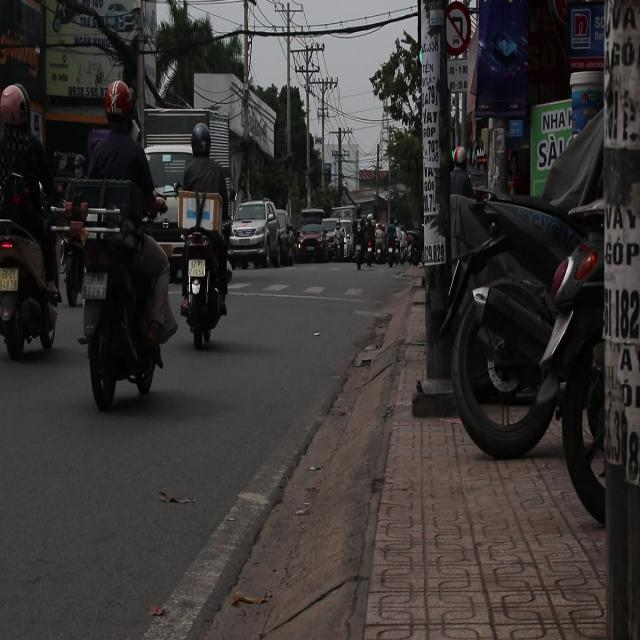car: (230, 200, 282, 269), (296, 223, 328, 263)
motorbike: (75, 177, 176, 409), (0, 162, 65, 354), (176, 191, 233, 350), (348, 209, 374, 280)
truck: (137, 106, 248, 307)
